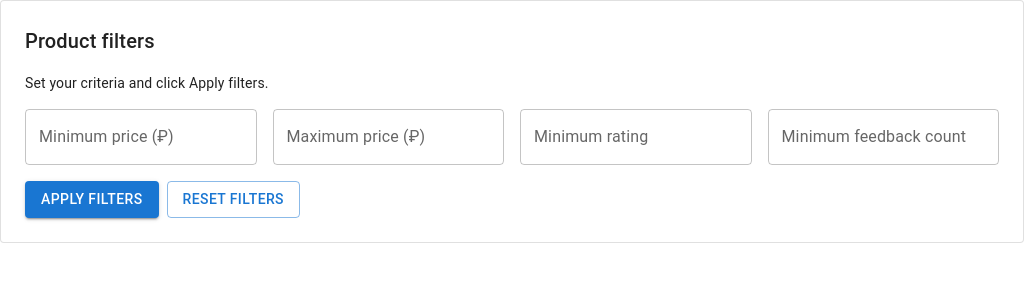
it: reset clears invalid drafts and applies an unrestricted dataset
The image size is (1024, 282).
In the number field labelled "Minimum rating": point(636, 137) [520,109,752,165], type "6"
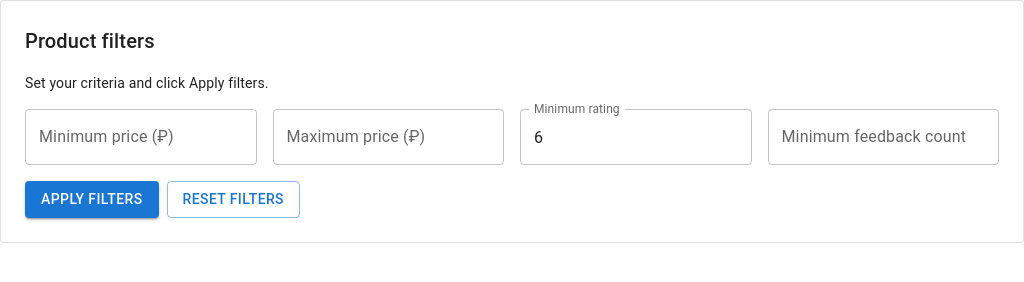
Click the button "Apply filters": point(92, 199) [25,181,159,218]
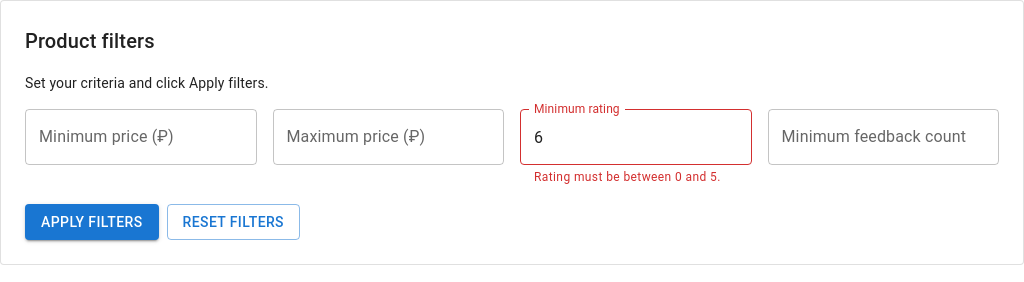
Click the button "Reset filters": point(233, 222) [167,204,300,240]
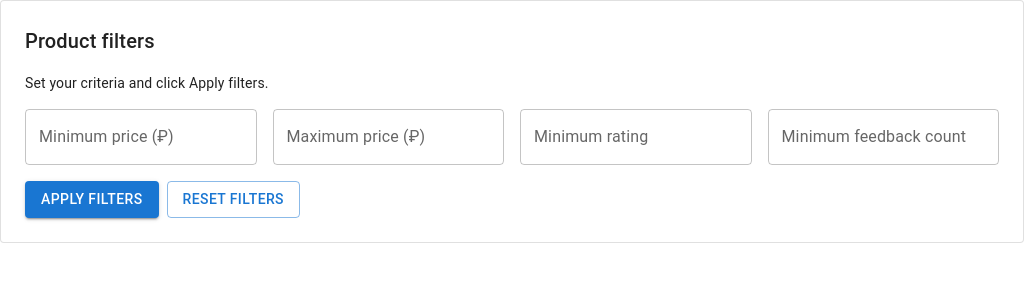
Expected: the number field labelled "Minimum rating" is not empty, [520,109,752,165]
